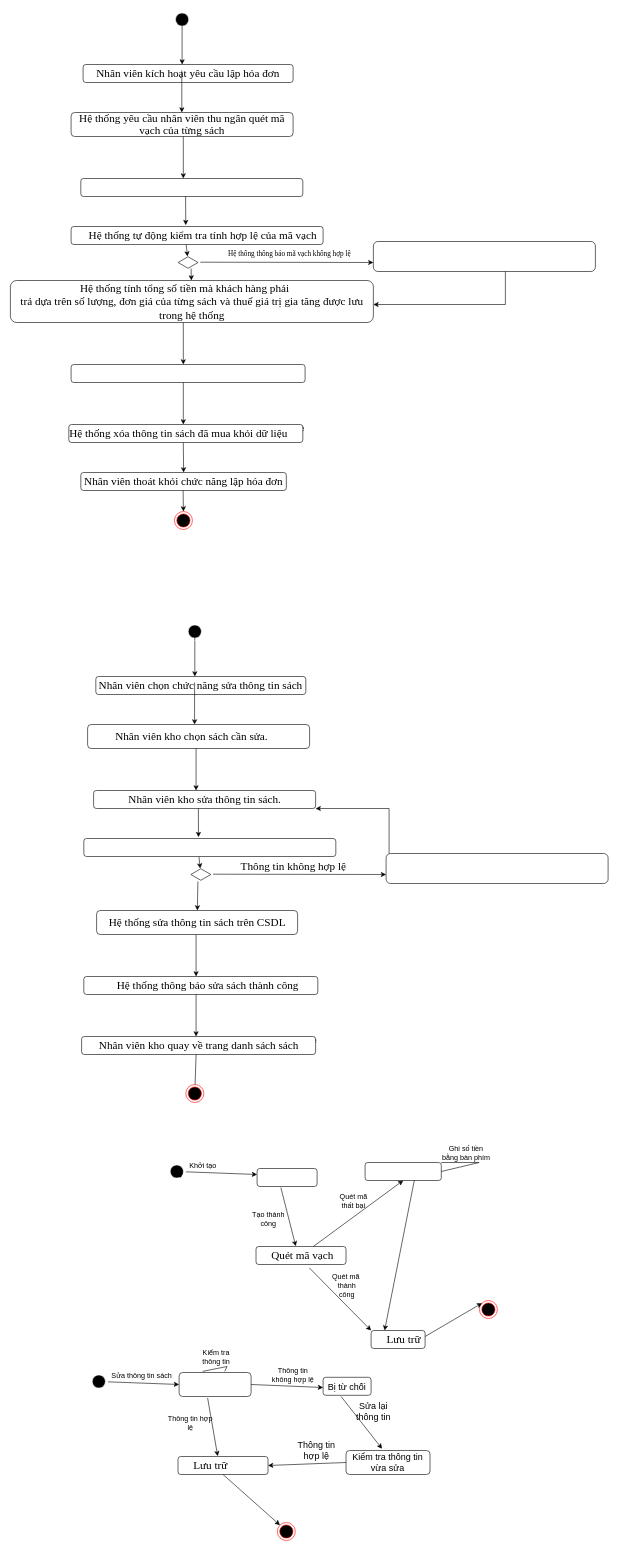
The diagram is 619 pixels wide and 1551 high, and some of its shapes have lost their labels. The shapes that lost their labels are listed below. From the top down, each one's centre as x and y in pixels, then its label:
(191,187): Nhân viên thu ngân quét mã vạch của từng sách
(484,256): Hệ thống cho phép nhân viên thu ngân nhập giá tiền bằng bàn phím
(187,373): Nhân viên thu ngân in hóa đơn cho khách hàng
(209,847): Hệ thống kiểm tra thông tin
(497,868): Nhân viên kho kiểm tra và nhập lại thông tin
(286,1177): Hóa đơn
(402,1171): Lỗi mã vạch
(214,1384): Đang chờ sử lý
